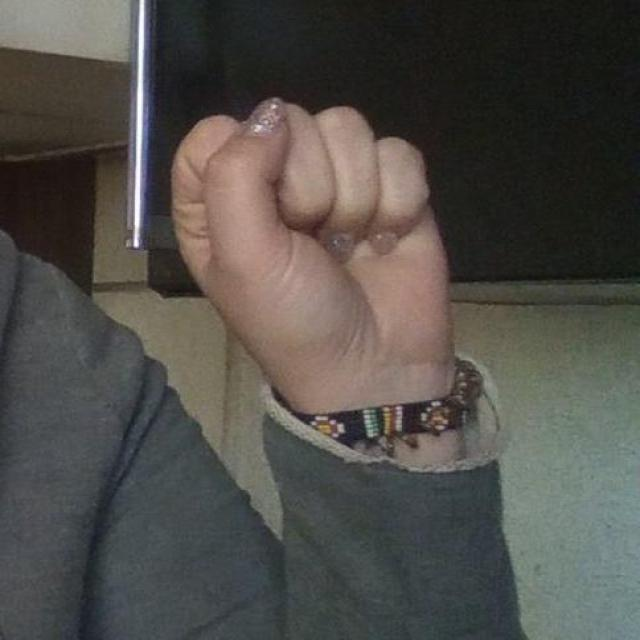hand: (168, 95, 457, 416)
